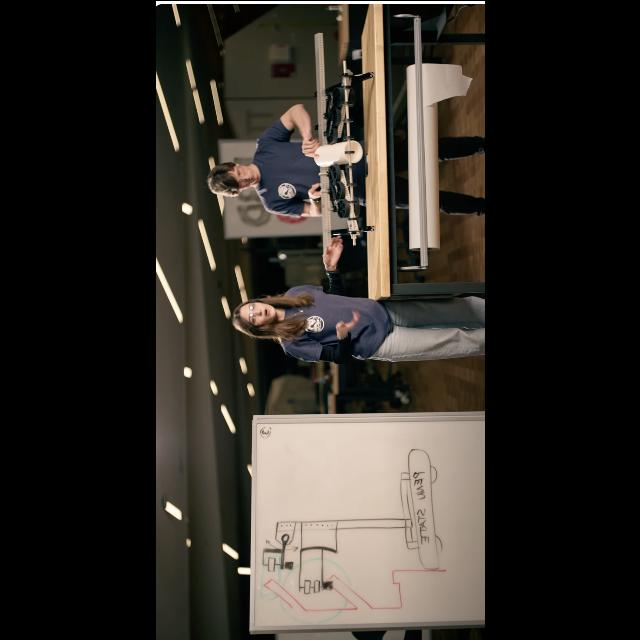CORAL: (314, 140, 362, 166)
